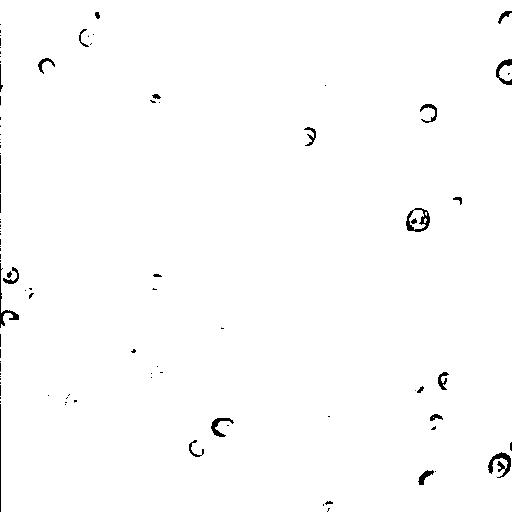micro-algae: (88, 401, 136, 448), (395, 232, 437, 272), (2, 287, 32, 333), (383, 18, 417, 57), (316, 64, 347, 95), (439, 490, 481, 512), (147, 363, 177, 392), (414, 467, 445, 495), (82, 2, 113, 29), (219, 145, 251, 171), (120, 339, 149, 367), (405, 206, 432, 235), (487, 451, 512, 480), (406, 377, 431, 403), (208, 416, 235, 437), (294, 127, 319, 149), (495, 55, 512, 87), (37, 56, 60, 79), (20, 287, 44, 309), (66, 391, 88, 414), (417, 102, 440, 124), (435, 371, 457, 392), (144, 272, 167, 292), (495, 5, 511, 33), (1, 263, 21, 285), (314, 499, 348, 511), (1, 70, 15, 99), (0, 309, 20, 329), (78, 27, 97, 48), (425, 412, 445, 431), (187, 439, 205, 457), (447, 193, 464, 209)
